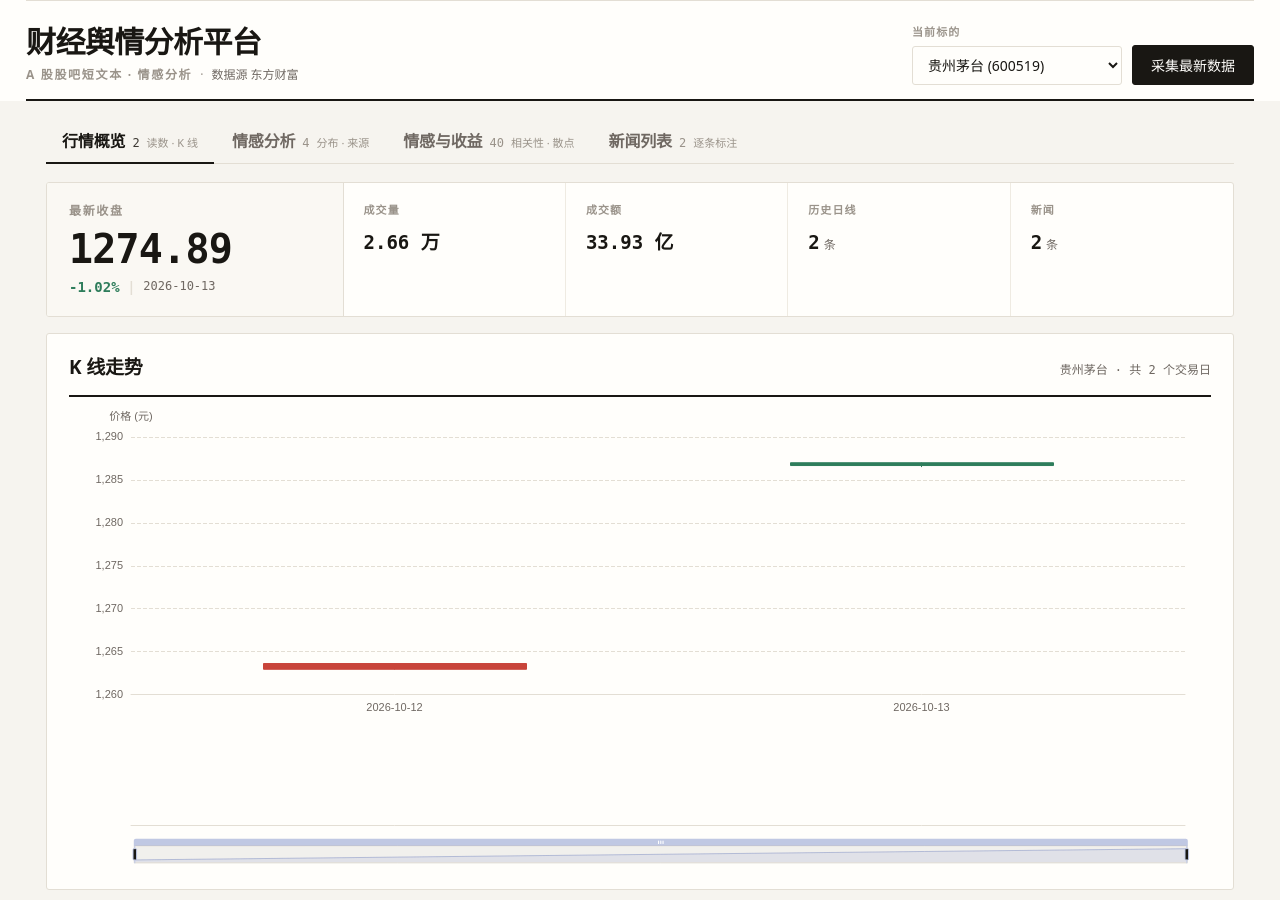
情感分析面板 › 总结占比最高的一类
Step 1. Click the tab "情感分析 4 分布 · 来源" → (301, 141), box [216,119,385,163]
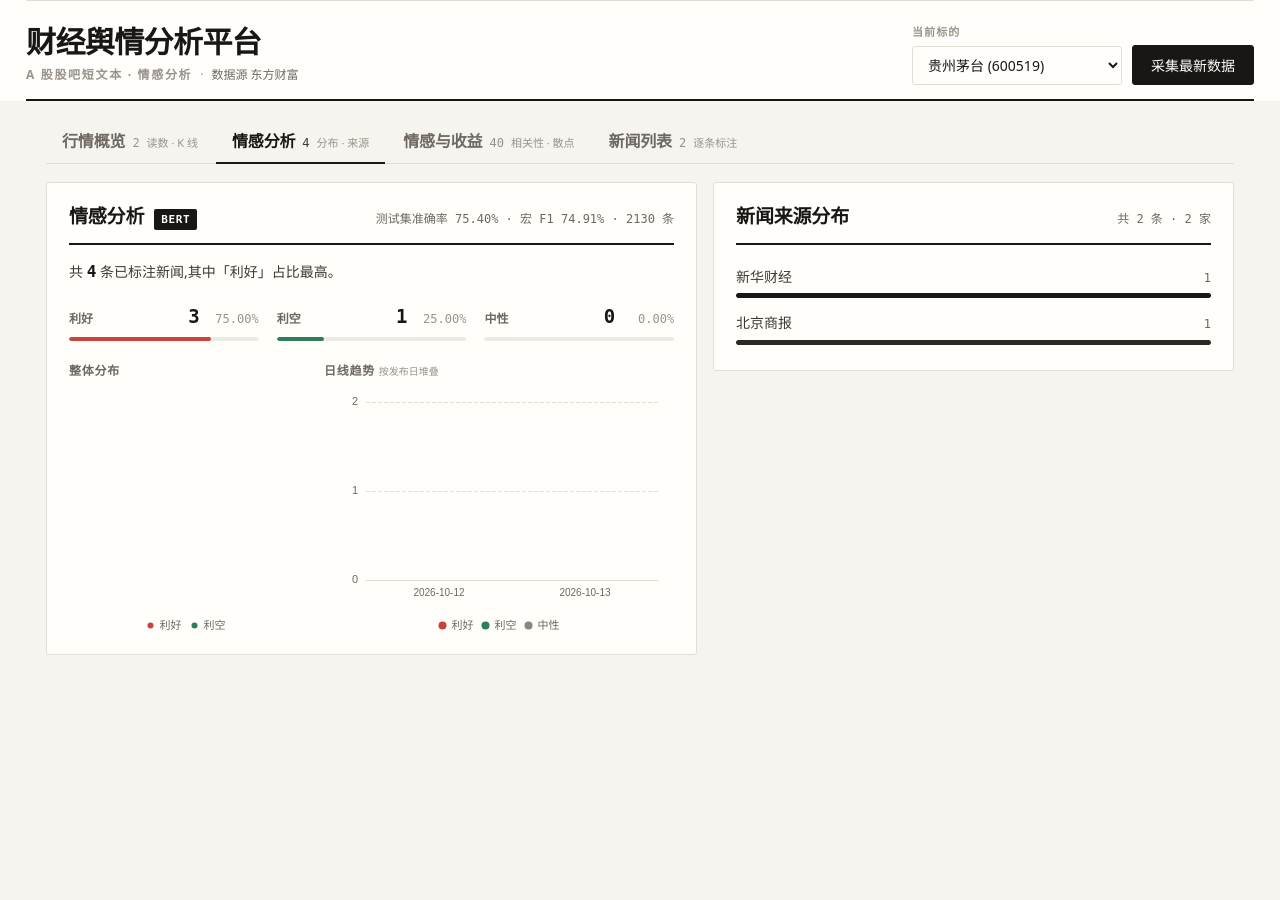
Expected: the text "「利好」占比最高" is shown, [184,262,328,281]
